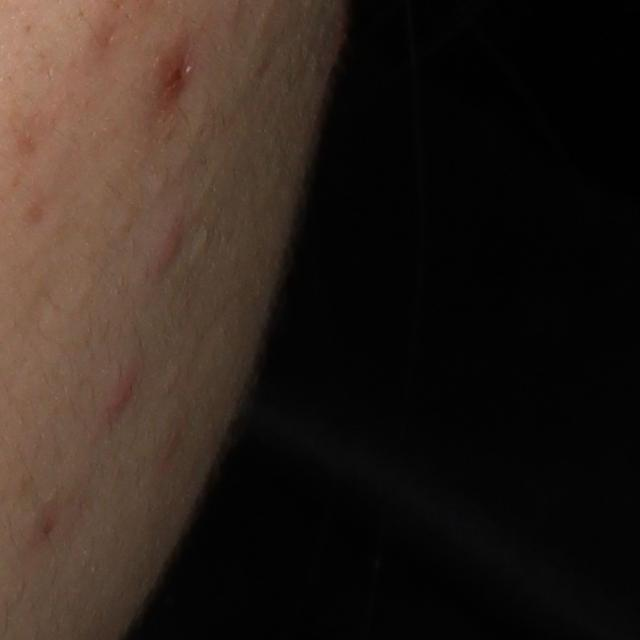papule: (148, 224, 184, 278), (102, 375, 138, 418)
